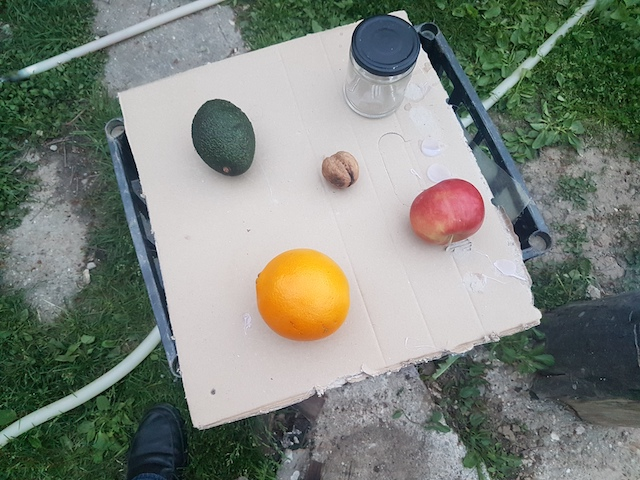apple: (408, 176, 485, 254)
avocado: (185, 96, 259, 178)
nut: (317, 147, 361, 192)
orange: (246, 247, 355, 344)
recipient: (354, 14, 419, 79)
